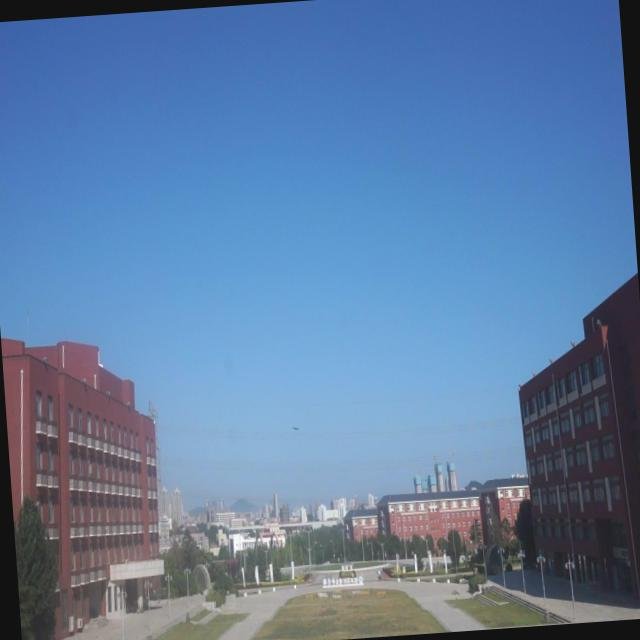drone: (290, 420, 301, 435)
